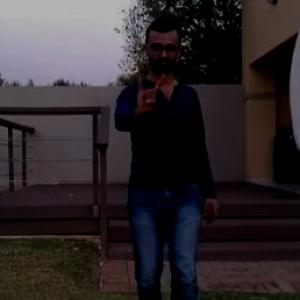takeoff-hand: (122, 58, 166, 121)
